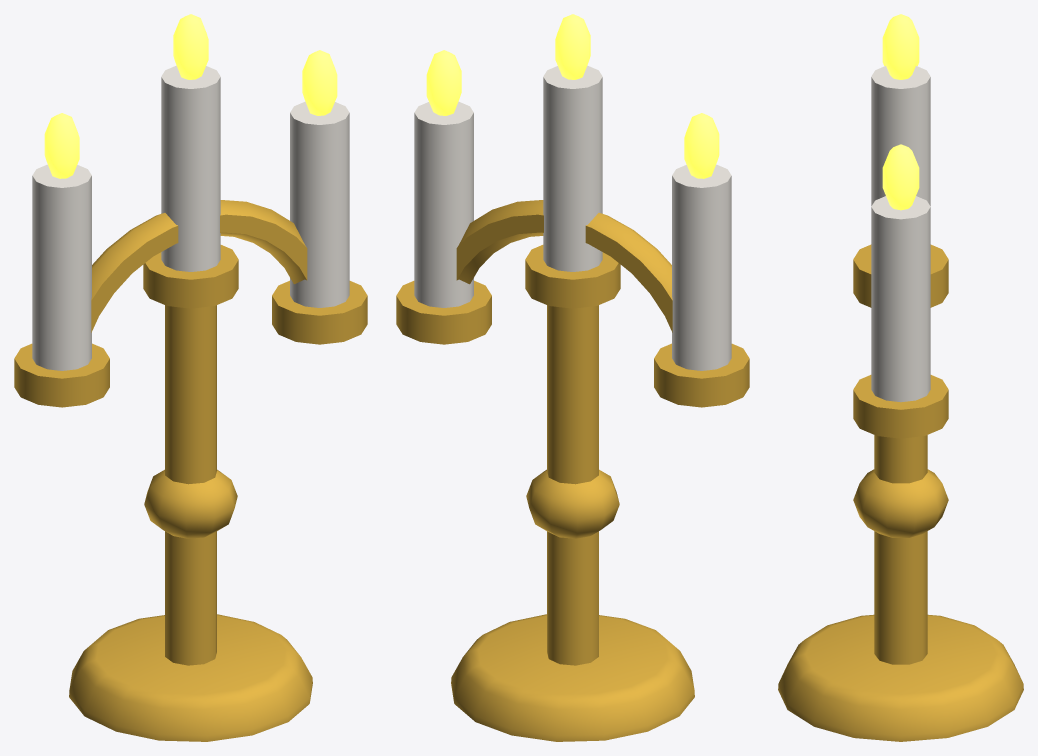
Rendered from candelabro.glb.
3 views of the same model, side by side, from view 1: azimuth 30°, elevation 25°; view 2: azimuth 150°, elevation 25°; view 3: azimuth 270°, elevation 25° (orthographic).
Visible parts, largest first — view 1: Candelabro; view 2: Candelabro; view 3: Candelabro.
Boxes of the visible parts, x1=… form: Candelabro: x1=14, y1=14, x2=367, y2=741; Candelabro: x1=396, y1=14, x2=749, y2=741; Candelabro: x1=778, y1=14, x2=1023, y2=741.
Bounding box in the file's own units: 0.37 × 0.705 × 0.2314.
